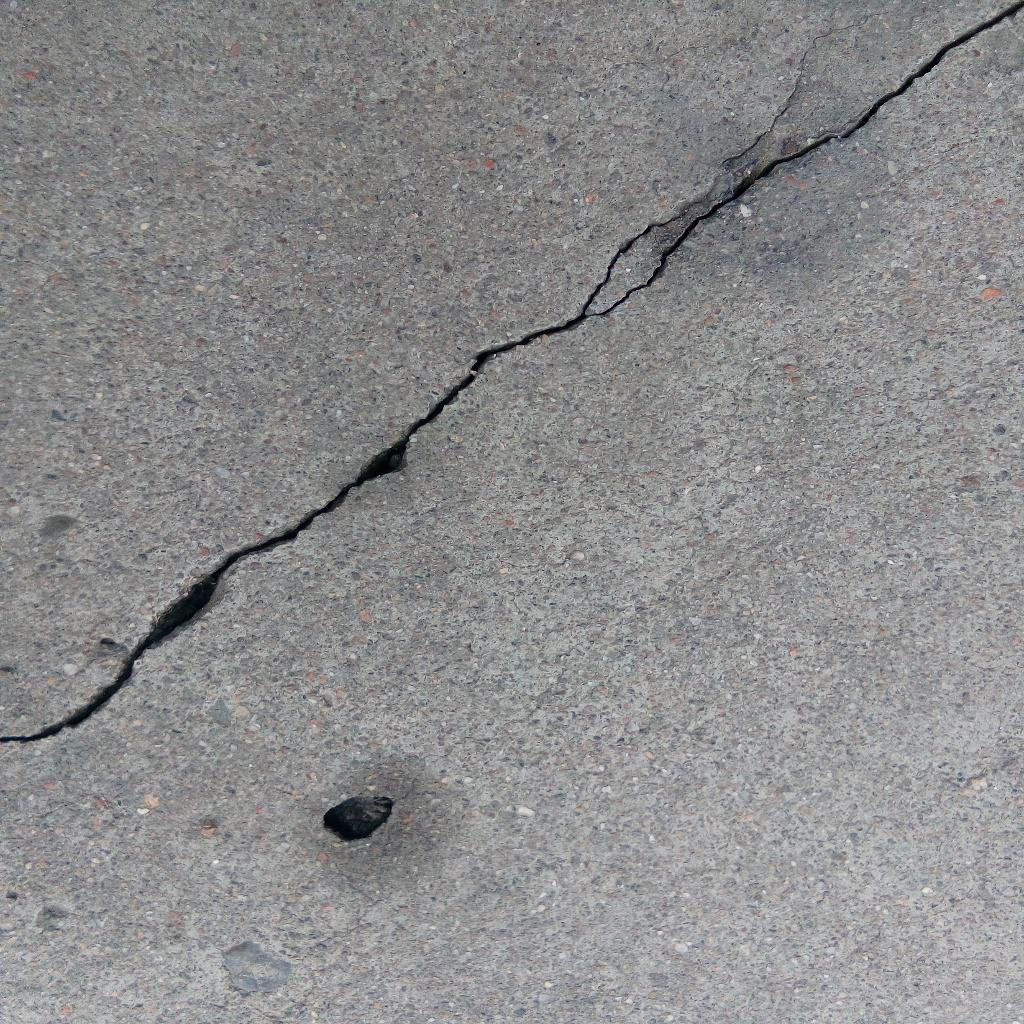Crack: (1, 1, 1024, 743)
Spalling: (323, 796, 395, 842)
